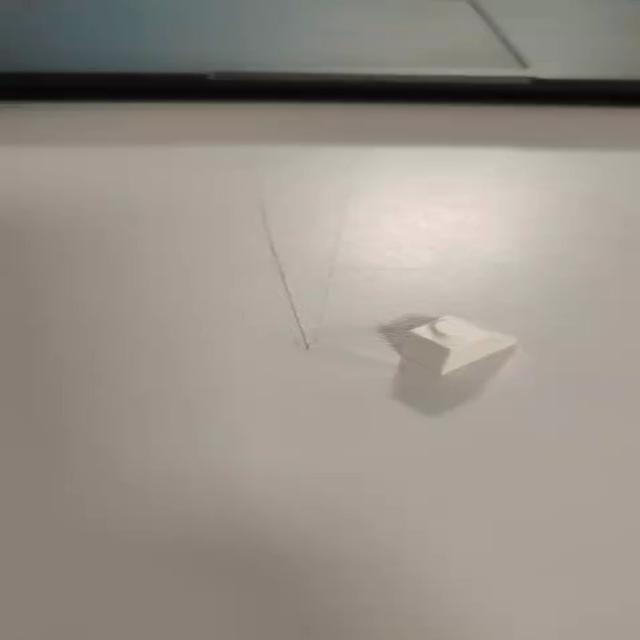P1x2x1: (400, 314, 520, 374)
